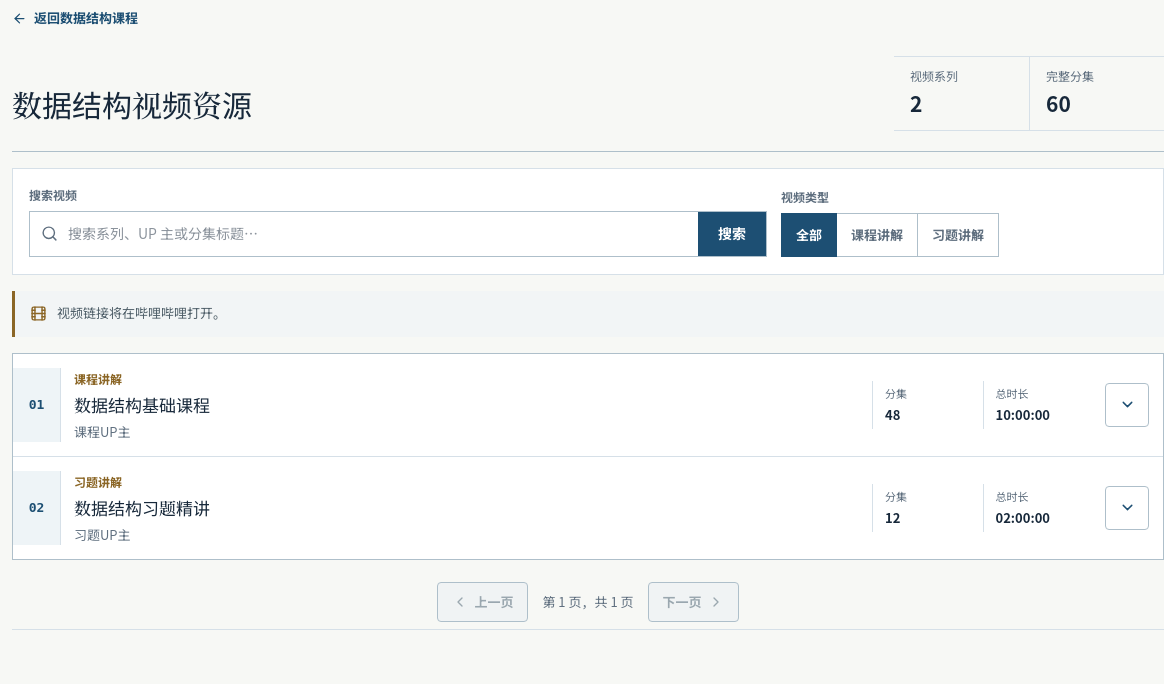
it: CourseVideoLibraryPage › retries one failed series without replacing the course library
Check: the heading "数据结构视频资源" is shown, box [12, 82, 252, 126]
What coordinates should you click on to do the following:
click the button named "展开分集：数据结构基础课程"
I would click on:
 (1127, 404)
Its box is [1105, 382, 1149, 426].
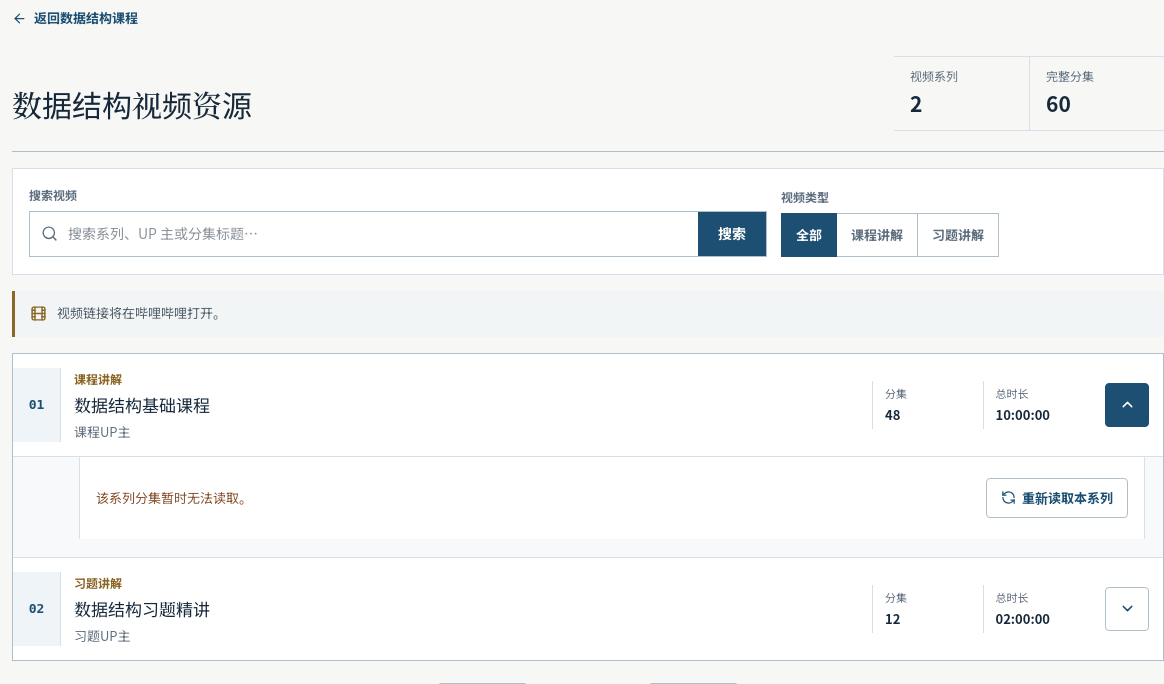
Check: the message shows "该系列分集暂时无法读取", box [96, 488, 252, 507]
What coordinates should you click on to do the following:
click the button "重新读取本系列"
I would click on:
 (1057, 498)
Its box is [986, 478, 1128, 518].
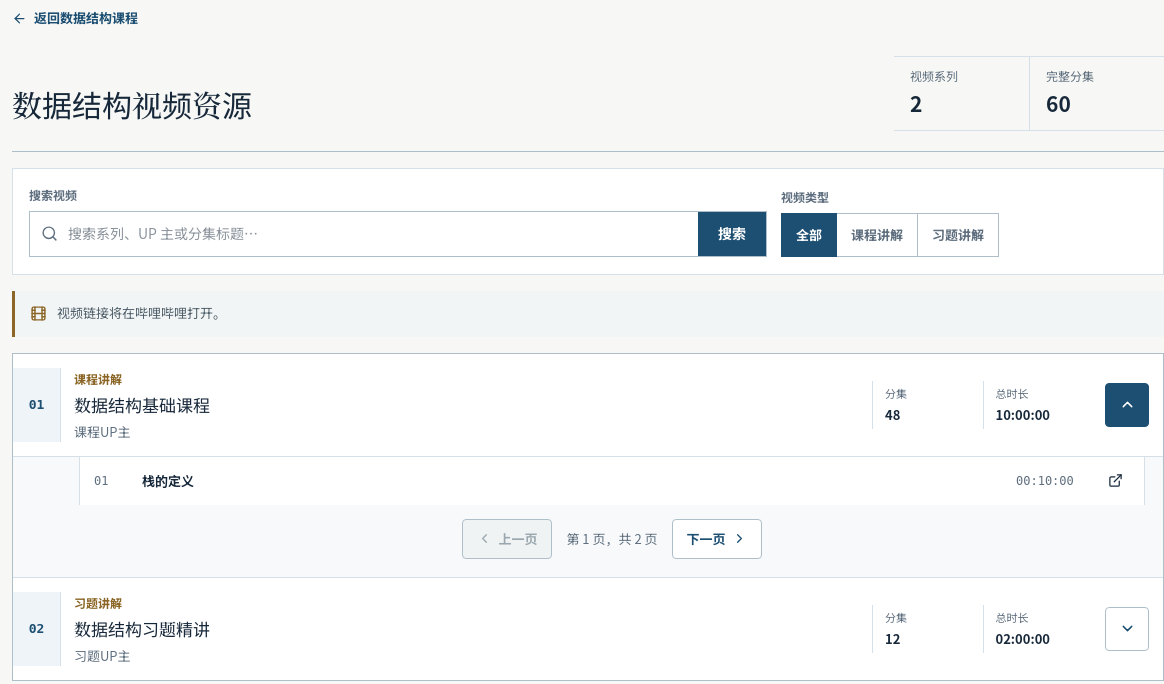
Check: the heading "数据结构视频资源" is shown, box [12, 82, 252, 126]
Check: the link with aria-label "观看第 1 集：栈的定义" is shown, box [94, 471, 1123, 490]
